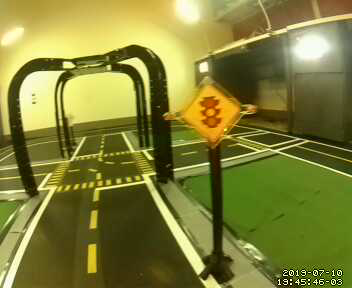Traffic light sign: (181, 82, 241, 141)
